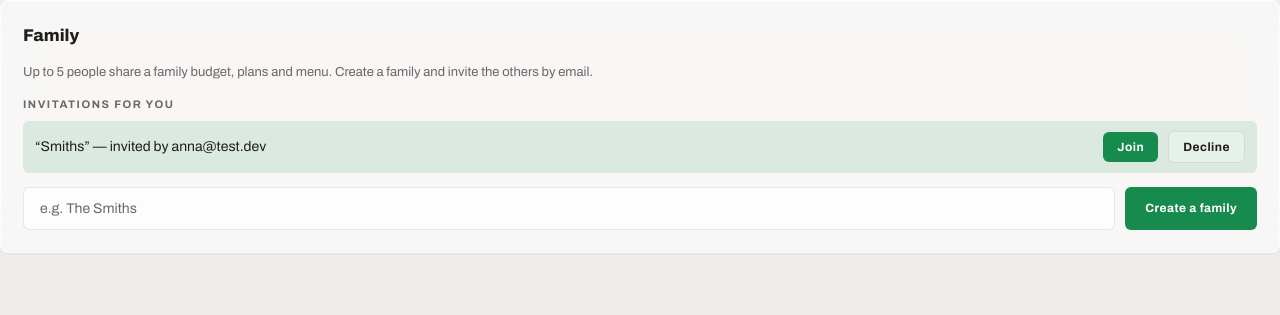
Scenario: family section on the profile › accepts or declines an invitation
This screenshot has width=1280, height=315.
Expected: the element with test id "invitation" shows "“Smiths” — invited by anna@test.dev", [35,139,266,154]
What coordinates should you click on to do the following:
click the button "Join"
I would click on:
 (1131, 146)
Its box is [1103,132,1158,162].
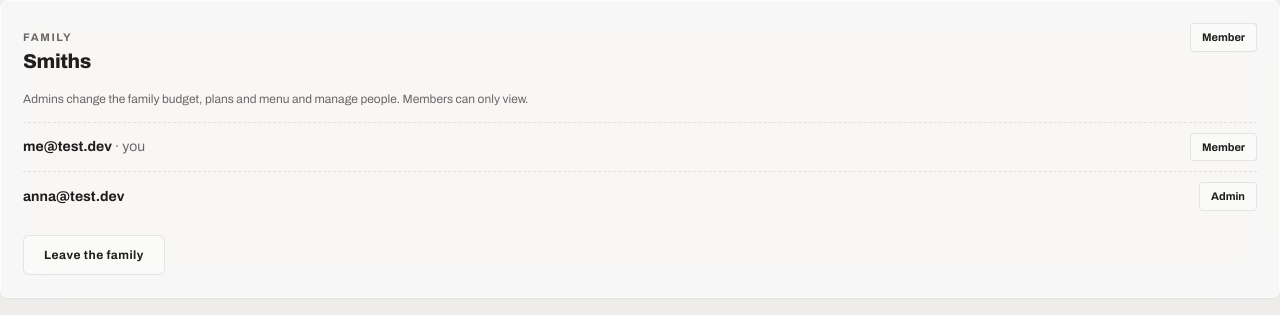
Now the heading "Smiths" is shown, box [23,46,91,76]
Now the element with test id "invitation" is gone
